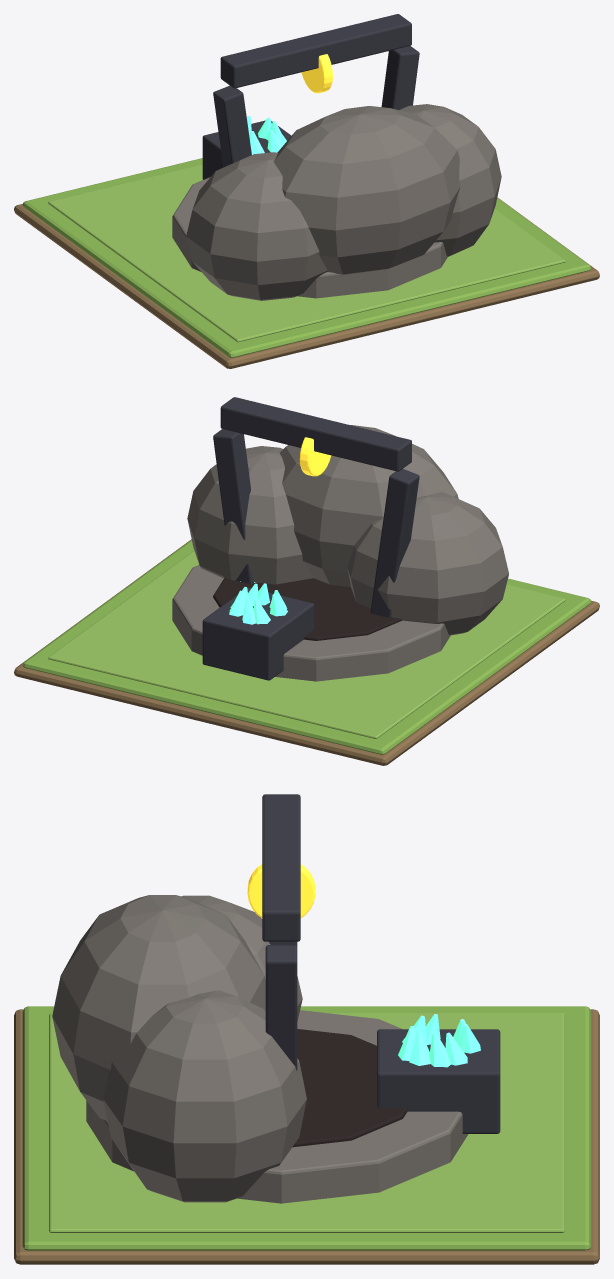
File: gem_mine_lv9.glb
3 renders of one model, top to bottom at view 1: azimuth 30°, elevation 25°; view 2: azimuth 150°, elevation 25°; view 3: azimuth 270°, elevation 25°, orthographic. The views are drawn at different scales.
Parts seen in each view (by area): view 1: GemRock_2, Base_Inner, GemRock_0, Base_Grass, Base_Dirt, GemHoistBeam, GemRock_1, QuarryPitRim, GemHoistPost_-1, GemHoistPost_1, GemCartBody, GemPulley; view 2: Base_Inner, GemRock_0, Base_Grass, GemRock_2, GemRock_1, QuarryPitRim, Base_Dirt, GemHoistBeam, GemCartBody, QuarryPitHole, GemHoistPost_-1, GemHoistPost_1 (+1 smaller); view 3: Base_Inner, GemRock_1, Base_Grass, GemRock_2, QuarryPitRim, Base_Dirt, GemCartBody, QuarryPitHole, GemHoistBeam, GemHoistPost_1, GemRock_0, GemPulley.
Boxes of the visible parts, x1=… form: GemRock_2: x1=273, y1=106, x2=460, y2=274; Base_Inner: x1=48, y1=164, x2=565, y2=342; GemRock_0: x1=186, y1=152, x2=327, y2=300; Base_Grass: x1=22, y1=158, x2=590, y2=357; Base_Dirt: x1=14, y1=197, x2=599, y2=368; GemHoistBeam: x1=220, y1=14, x2=411, y2=88; GemRock_1: x1=399, y1=104, x2=501, y2=256; QuarryPitRim: x1=172, y1=177, x2=447, y2=298; GemHoistPost_-1: x1=213, y1=85, x2=251, y2=167; GemHoistPost_1: x1=381, y1=46, x2=419, y2=109; GemCartBody: x1=202, y1=120, x2=291, y2=179; GemPulley: x1=301, y1=54, x2=332, y2=93; Base_Inner: x1=48, y1=550, x2=565, y2=738; GemRock_0: x1=347, y1=492, x2=508, y2=635; Base_Grass: x1=22, y1=540, x2=591, y2=754; GemRock_2: x1=279, y1=425, x2=458, y2=587; GemRock_1: x1=187, y1=446, x2=313, y2=584; QuarryPitRim: x1=172, y1=565, x2=450, y2=681; Base_Dirt: x1=14, y1=539, x2=599, y2=765; GemHoistBeam: x1=220, y1=397, x2=411, y2=471; GemCartBody: x1=202, y1=587, x2=314, y2=680; QuarryPitHole: x1=213, y1=577, x2=401, y2=640; GemHoistPost_-1: x1=370, y1=469, x2=419, y2=617; GemHoistPost_1: x1=213, y1=429, x2=253, y2=583; Base_Inner: x1=49, y1=1013, x2=564, y2=1232; GemRock_1: x1=103, y1=990, x2=306, y2=1202; Base_Grass: x1=22, y1=1006, x2=591, y2=1250; GemRock_2: x1=52, y1=895, x2=265, y2=1120; QuarryPitRim: x1=86, y1=1010, x2=468, y2=1203; Base_Dirt: x1=14, y1=1009, x2=599, y2=1264; GemCartBody: x1=377, y1=1029, x2=500, y2=1133; QuarryPitHole: x1=292, y1=1029, x2=407, y2=1147; GemHoistBeam: x1=262, y1=794, x2=300, y2=941; GemHoistPost_1: x1=265, y1=945, x2=297, y2=1070; GemRock_0: x1=181, y1=895, x2=302, y2=1021; GemPulley: x1=247, y1=864, x2=315, y2=917.
Size of the model in its own units: 2.76 by 1.53 by 2.76.
